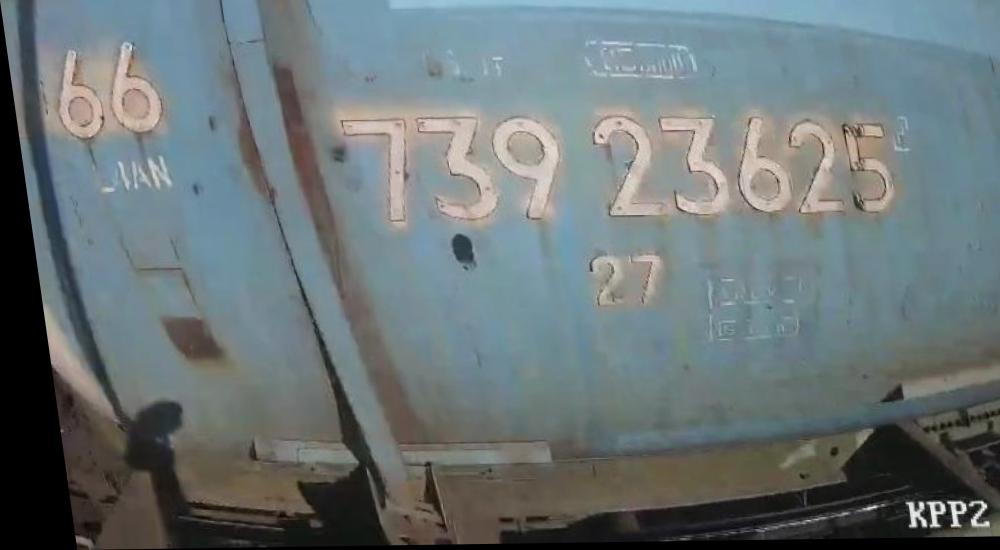Wagon-number: (329, 110, 898, 233)
